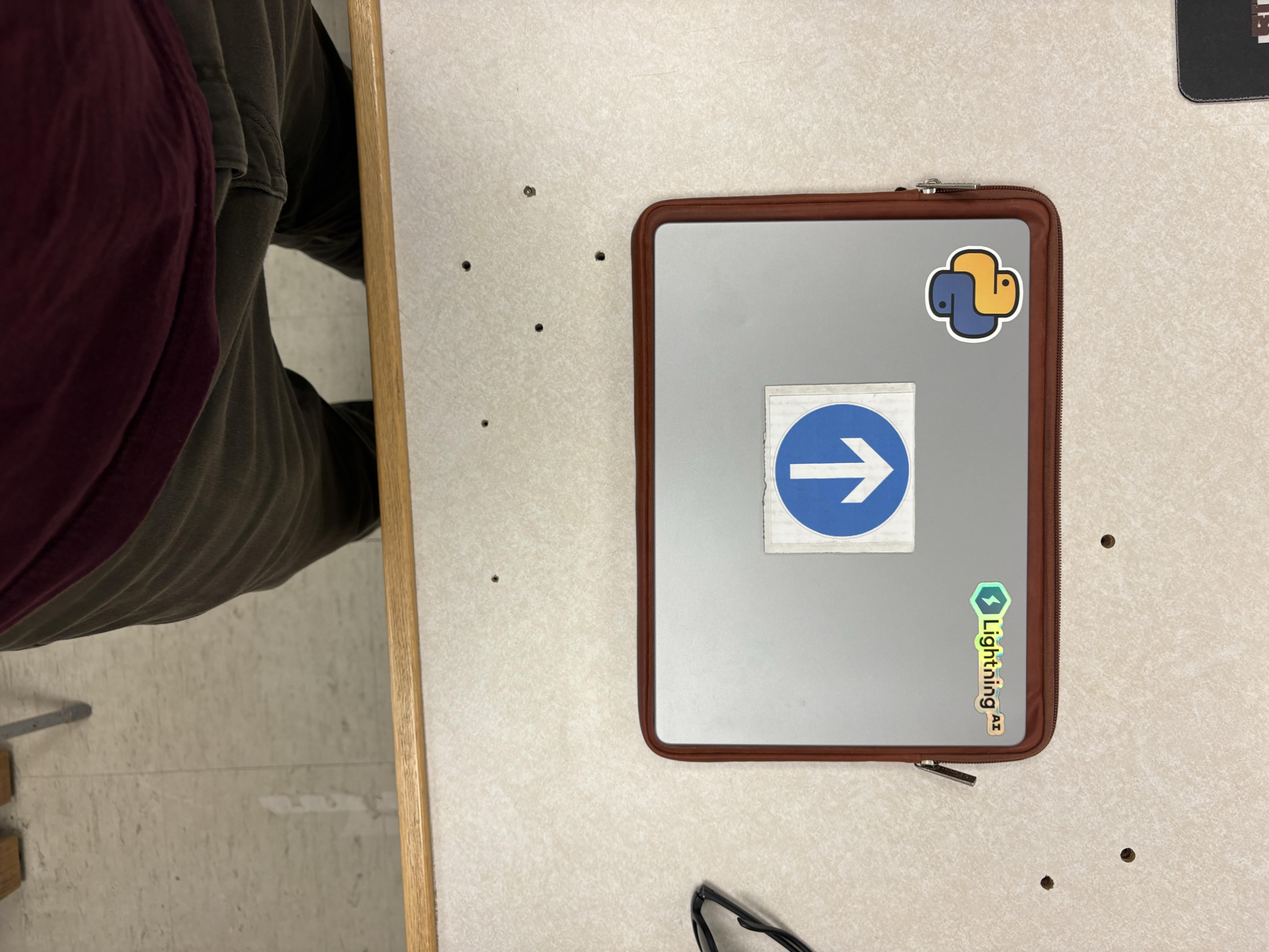Proceed Right: (763, 386, 918, 561)
